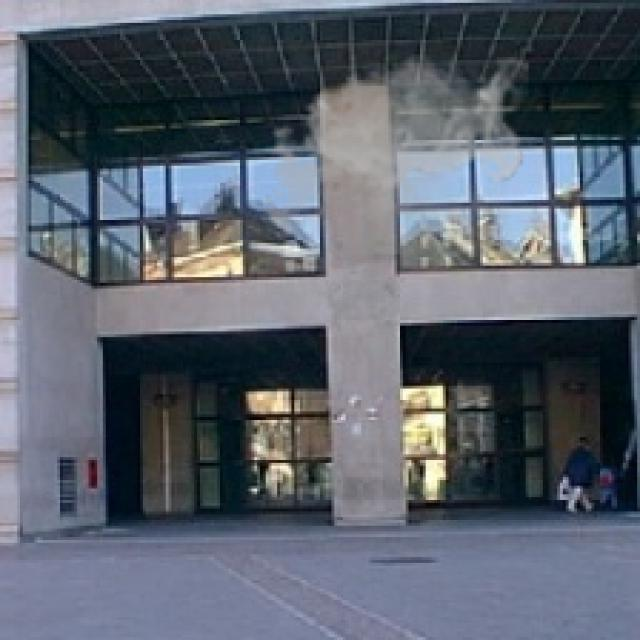Smoke: (254, 46, 529, 254)
